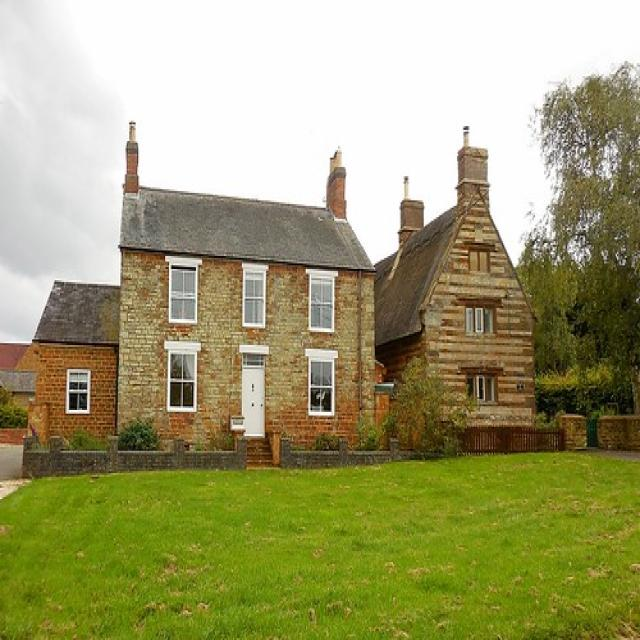building: (119, 145, 381, 458), (382, 158, 546, 456), (28, 273, 117, 462)
